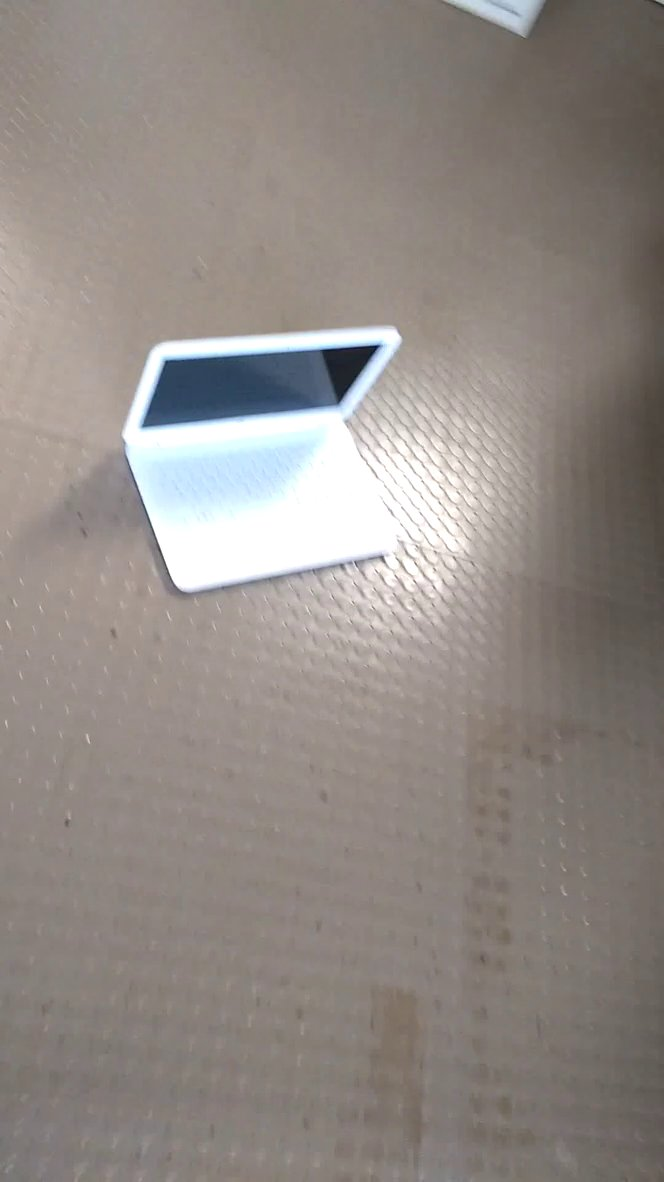laptop: (118, 316, 424, 614)
